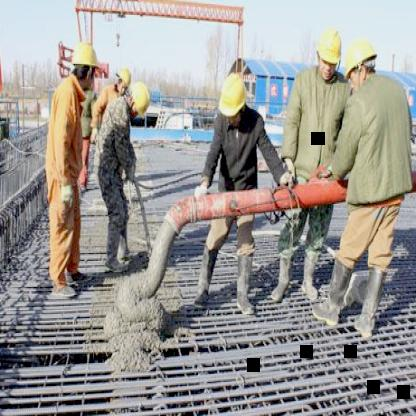helmet: (342, 35, 378, 98), (312, 22, 344, 83), (219, 71, 249, 125), (70, 38, 102, 88), (126, 80, 152, 118), (115, 64, 131, 98)
